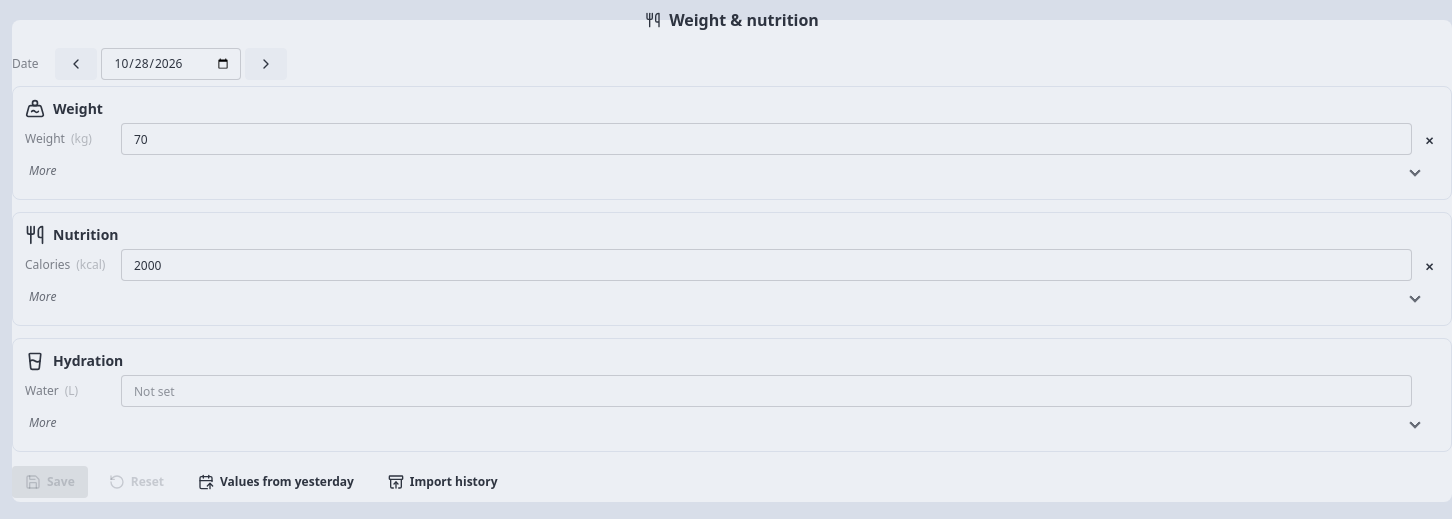
Test: WeightAndNutritionForm › restores the loaded values with the Reset button
Expected: the button "Reset" is disabled, [96,466,177,498]
Replace the text in the number field labelled "Weight (kg)" with "75" at x=766, y=139, box [121,123,1412,155]
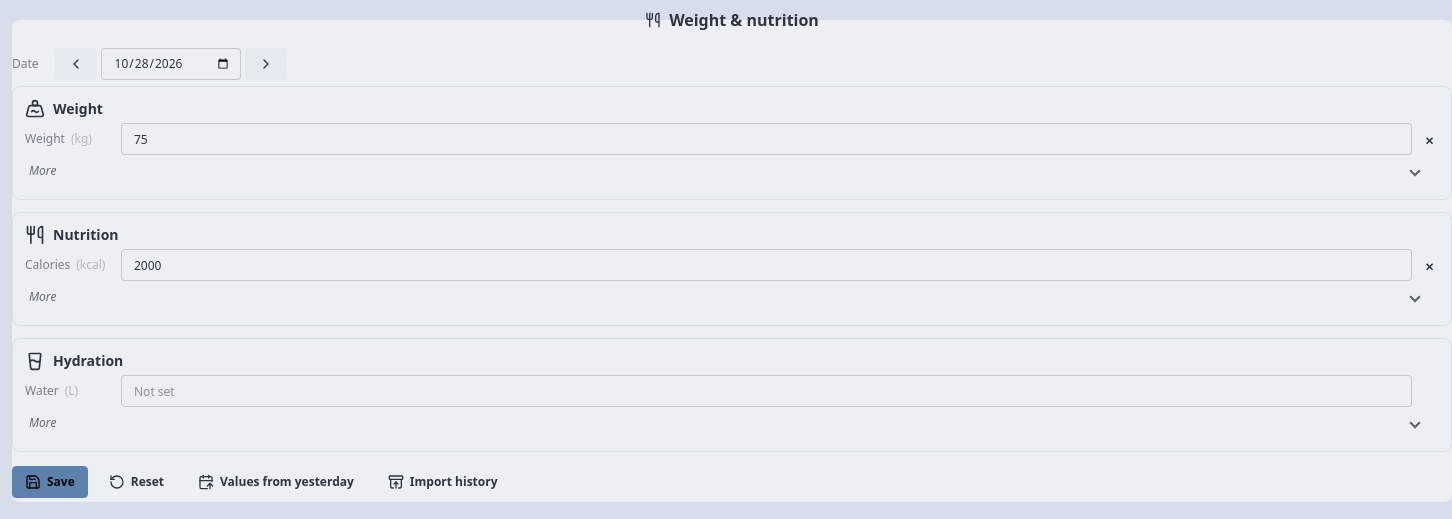
Click the button "Reset" at x=136, y=482, box [96,466,177,498]
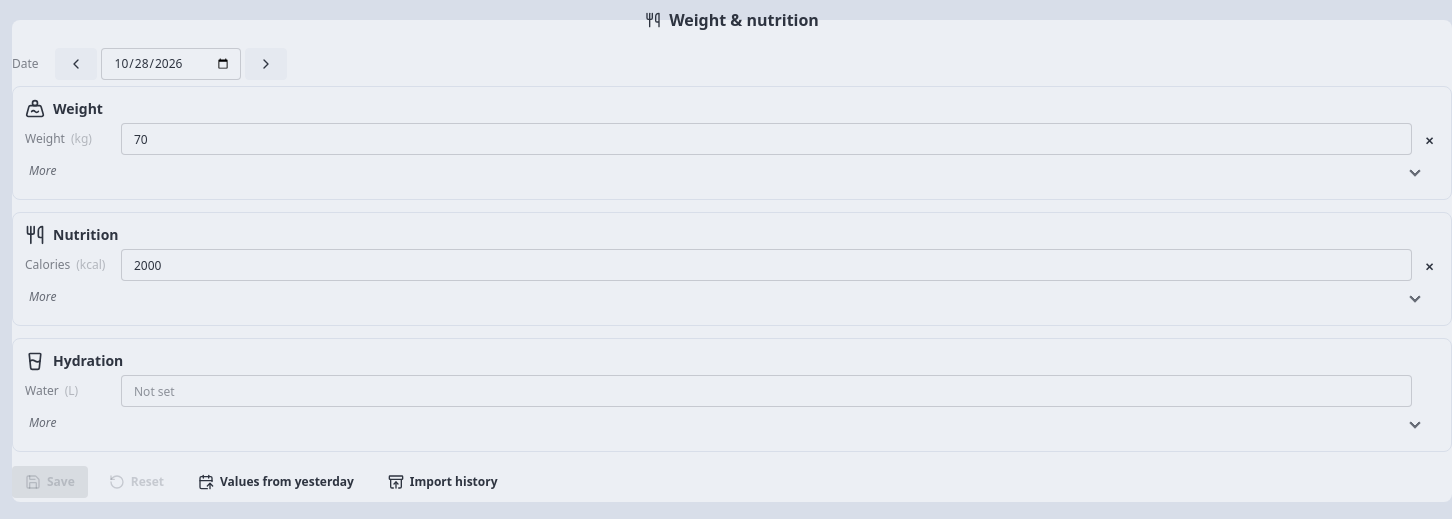
Expected: the number field labelled "Weight (kg)" holds "70", [121,123,1412,155]
Expected: the button "Reset" is disabled, [96,466,177,498]
Expected: the button "Save" is disabled, [12,466,88,498]
